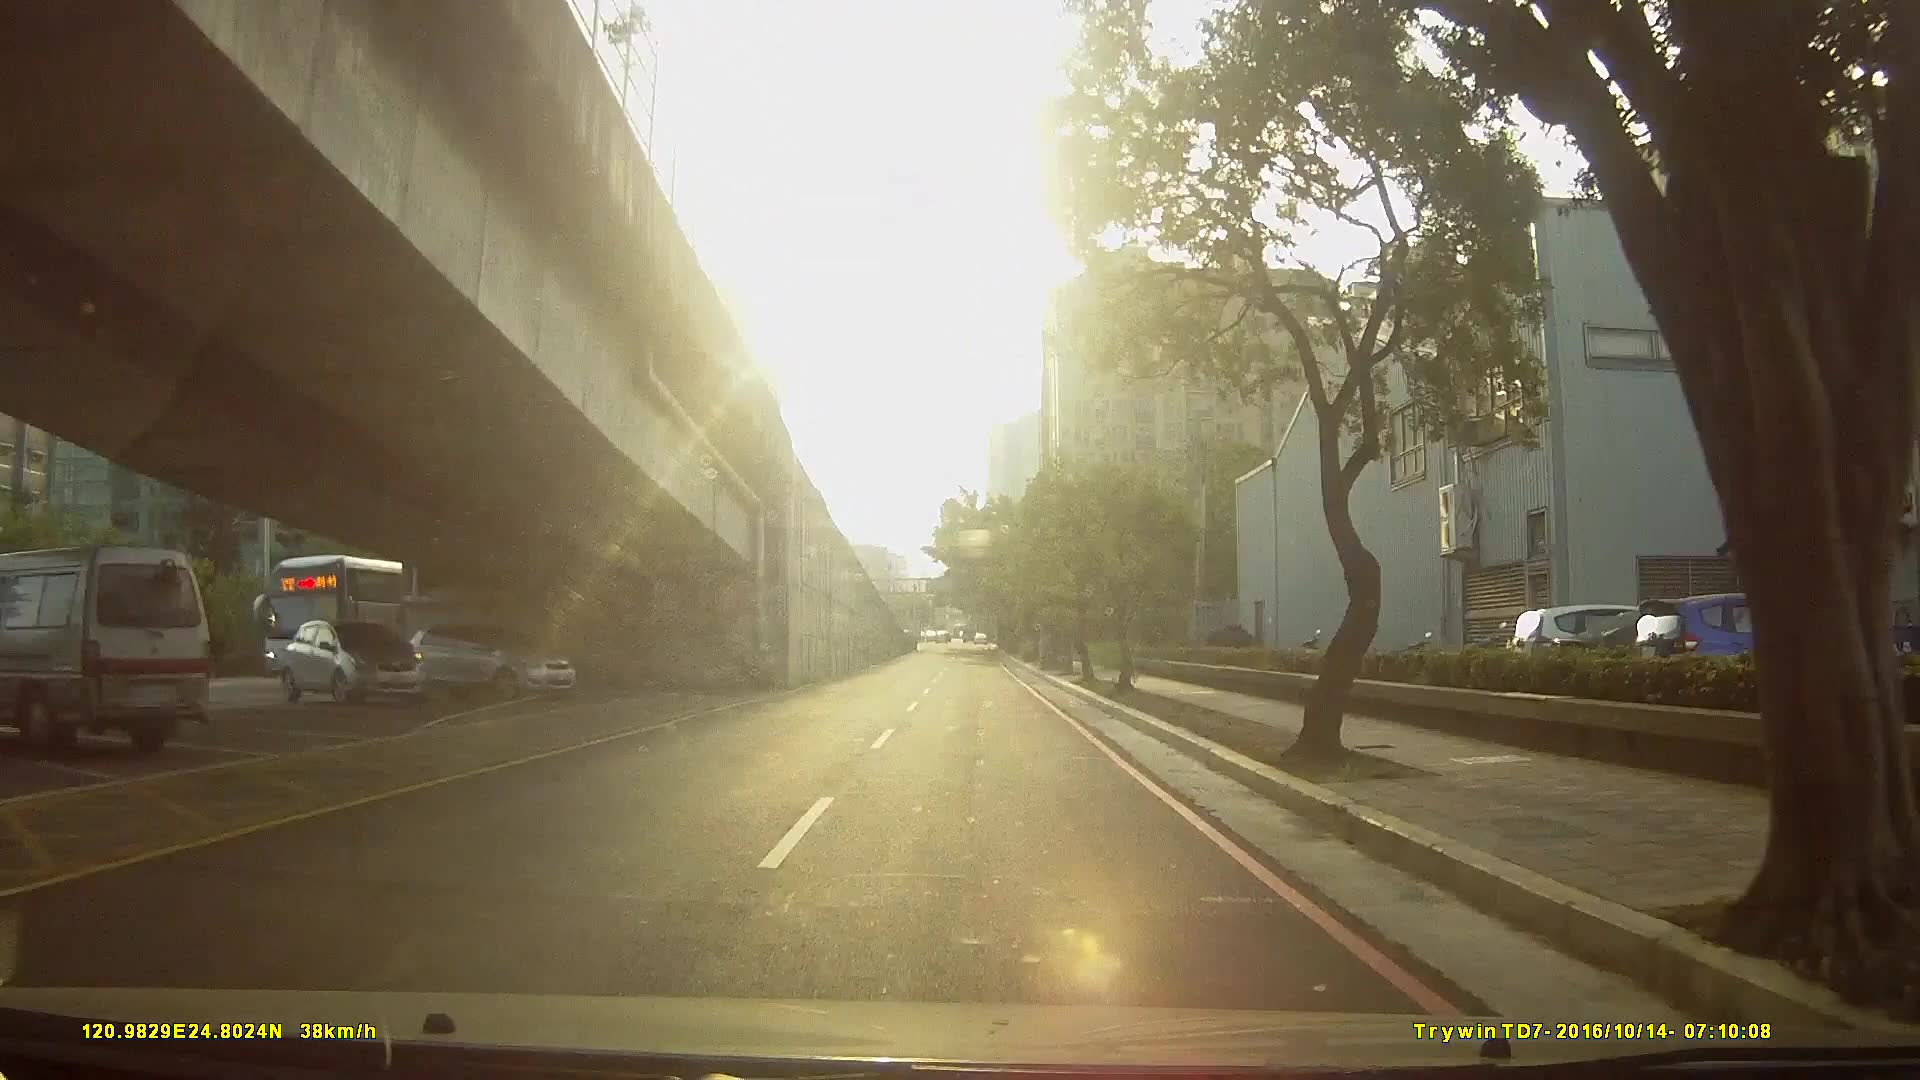vehicle: (1, 537, 223, 762), (251, 549, 483, 695), (396, 620, 574, 703), (268, 616, 421, 708)
